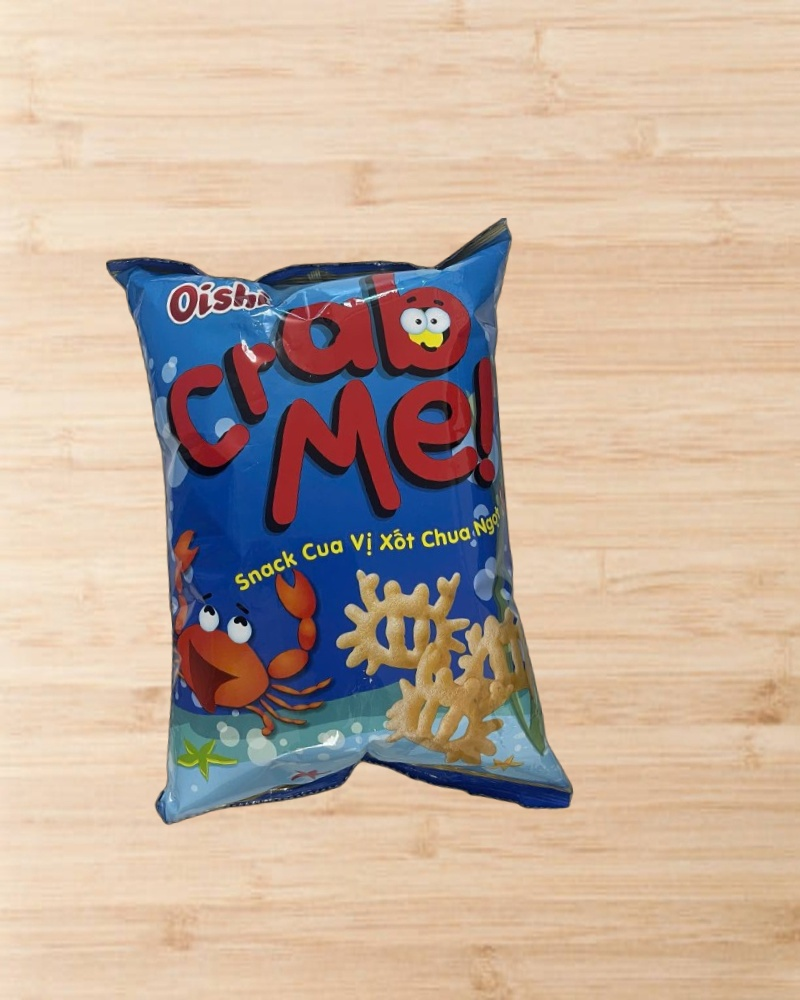Snack cua: (106, 217, 574, 838)
